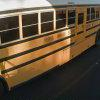Bus: (4, 3, 97, 81)
